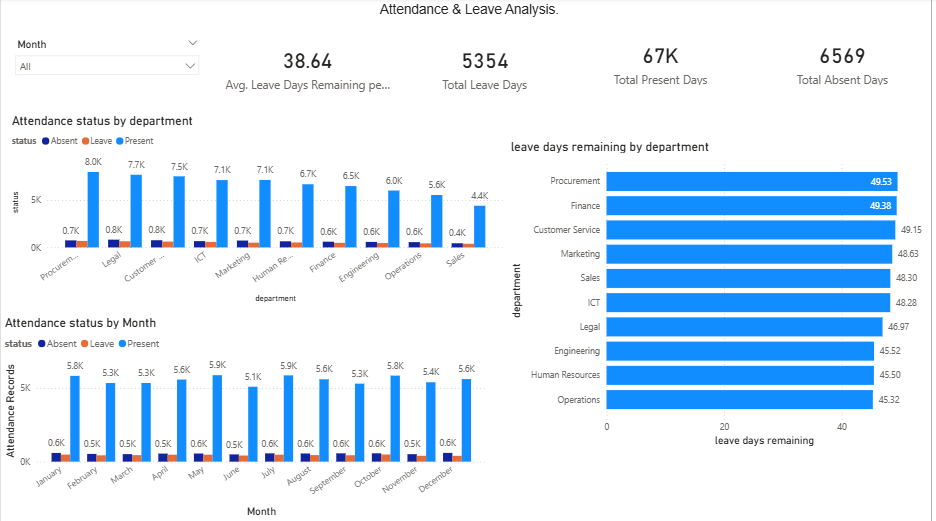

The page's visual inventory and layout, read from the dashboard file:
{"tool":"powerbi","page":{"name":"Page 3","canvas":[1280,720],"ordinal":2},"visuals":[{"type":"clusteredColumnChart","title":"Attendance status by Month ","fields":{"Category":["public attendance.date.Variation.Date Hierarchy.Month"],"Series":["public attendance.status"],"Y":["CountNonNull(public attendance.status)"]},"box":[0,436.2,672.2,283.2],"z":0},{"type":"clusteredColumnChart","title":"Attendance status by department","fields":{"Category":["public employees.public positions.department"],"Series":["public attendance.status"],"Y":["CountNonNull(public attendance.status)"]},"box":[10,158.7,686.5,266],"z":1},{"type":"barChart","fields":{"Category":["public employees.public positions.department"],"Y":["Avg(public employees.leave_days_remaining)"]},"box":[696.5,194.5,583.5,427.6],"z":2},{"type":"slicer","fields":{"Values":["public attendance.date.Variation.Date Hierarchy.Month"]},"box":[10,51.5,273.2,87.2],"z":3},{"type":"card","fields":{"Values":["Avg(public attendance.leave_days_remaining)"]},"box":[303.2,51.5,238.8,87.2],"z":4},{"type":"textbox","box":[10.1,0,1269.9,52.1],"z":5},{"type":"card","fields":{"Values":["public attendance.Total Present Days"]},"box":[1036.9,51.5,243.1,74.4],"z":6},{"type":"card","fields":{"Values":["public attendance.Total Present Days"]},"box":[779.4,51.5,257.4,74.4],"z":7},{"type":"card","fields":{"Values":["public attendance.Total Leave Days"]},"box":[552,51.5,227.4,87.2],"z":8}]}

Visuals, with their boxes in screenshot pixels (x1, y1, x2, y2), scaled from the page's 1280x720 canvas onto the 936x521 screenshot:
"Attendance status by Month " clusteredColumnChart: l=0, t=316, r=492, b=520
"Attendance status by department" clusteredColumnChart: l=7, t=115, r=509, b=307
barChart - public employees.public positions.department x Avg(public employees.leave_days_remaining): l=509, t=141, r=935, b=450
slicer - public attendance.date.Variation.Date Hierarchy.Month: l=7, t=37, r=207, b=100
card - Avg(public attendance.leave_days_remaining): l=222, t=37, r=396, b=100
textbox: l=7, t=0, r=935, b=38
card - public attendance.Total Present Days: l=758, t=37, r=935, b=91
card - public attendance.Total Present Days: l=570, t=37, r=758, b=91
card - public attendance.Total Leave Days: l=404, t=37, r=570, b=100
